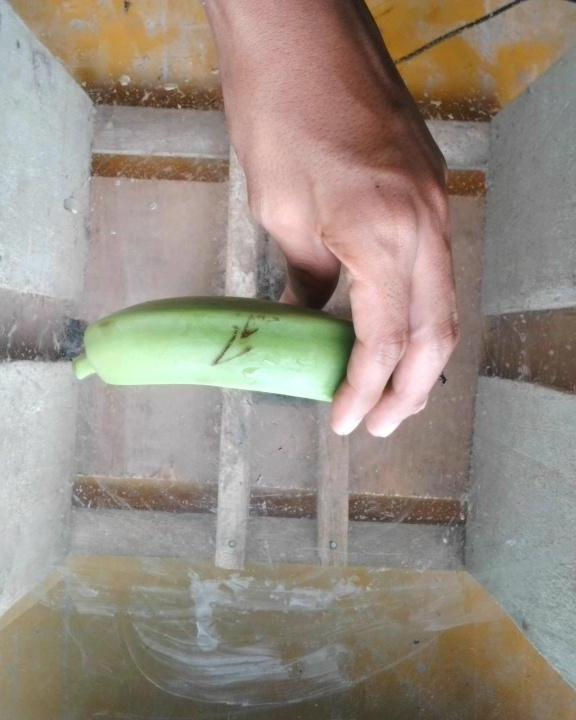CLASS B: (53, 293, 350, 417)
Class A: (210, 308, 271, 372)
